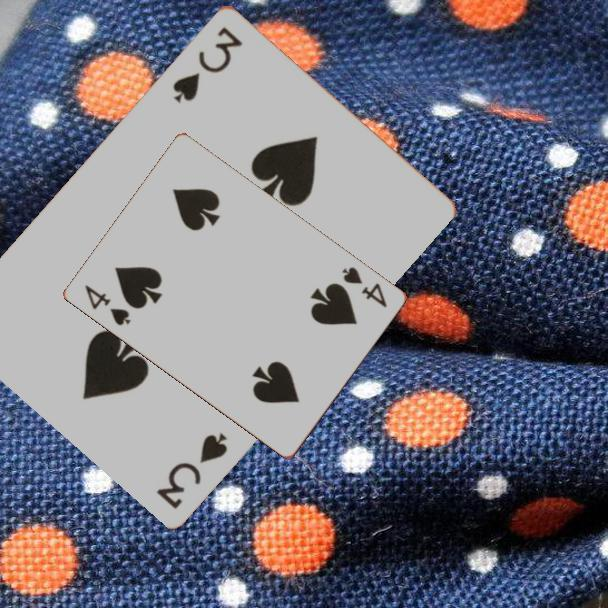s03: (152, 429, 231, 512), (169, 22, 246, 106)
s04: (82, 281, 134, 328), (339, 263, 390, 310)
